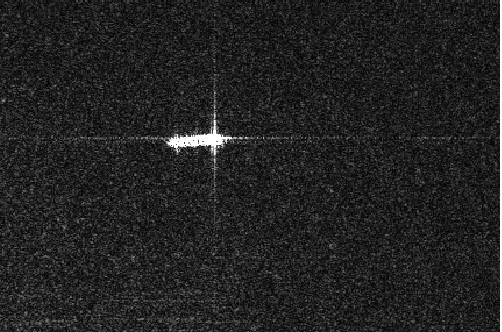ship: (164, 132, 226, 150)
